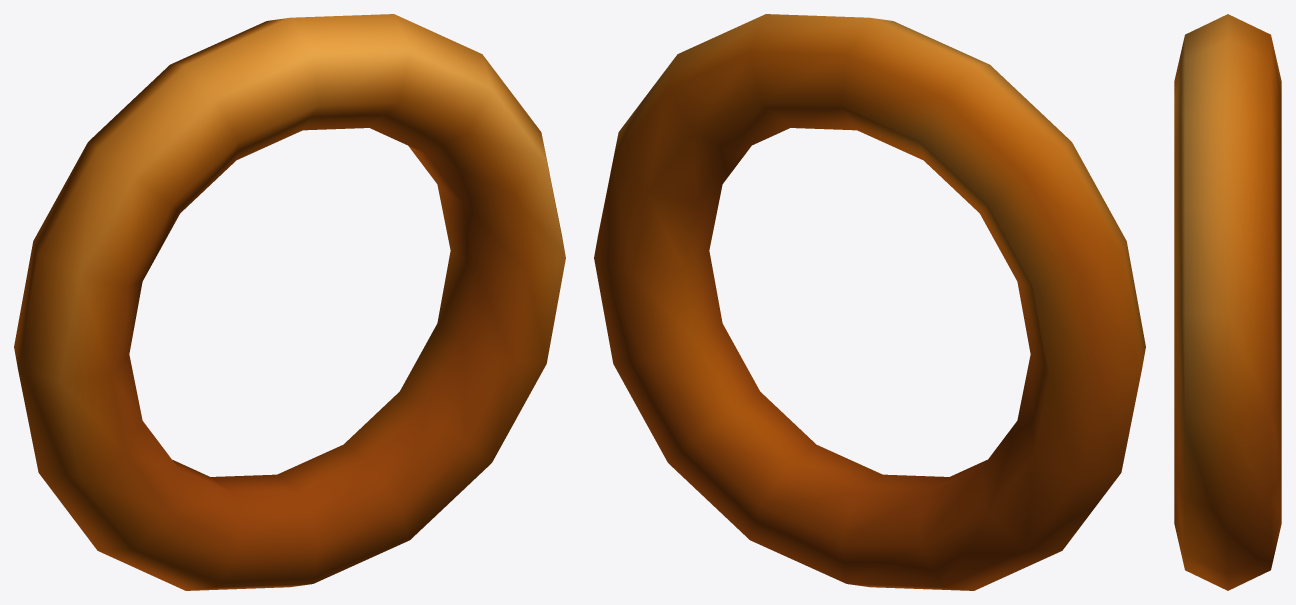
File: SM_ring_001_copper.fbx
The picture shows the model from 3 angles, left to right: view 1: azimuth 30°, elevation 25°; view 2: azimuth 150°, elevation 25°; view 3: azimuth 270°, elevation 25°; orthographic projection. The views are drawn at different scales.
Visible parts, largest first — view 1: SM_ring_001_copper; view 2: SM_ring_001_copper; view 3: SM_ring_001_copper.
Part boxes in pixels (box(x1,y1,x2,y2)): SM_ring_001_copper: box(14, 14, 565, 590); SM_ring_001_copper: box(594, 14, 1145, 590); SM_ring_001_copper: box(1174, 14, 1281, 590).
Bounding box in the file's own units: 42 × 42 × 7.8.
